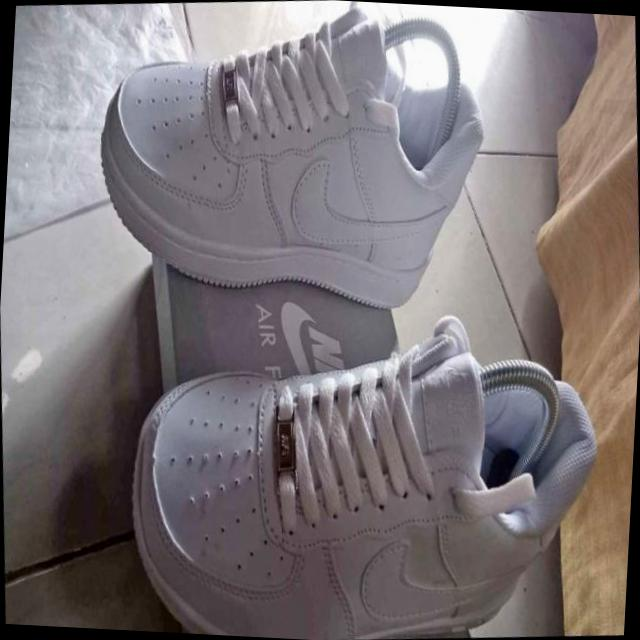nike_fake_airforce: (111, 306, 601, 640), (83, 0, 506, 334)
